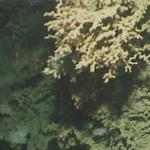alive: (4, 1, 149, 147)
